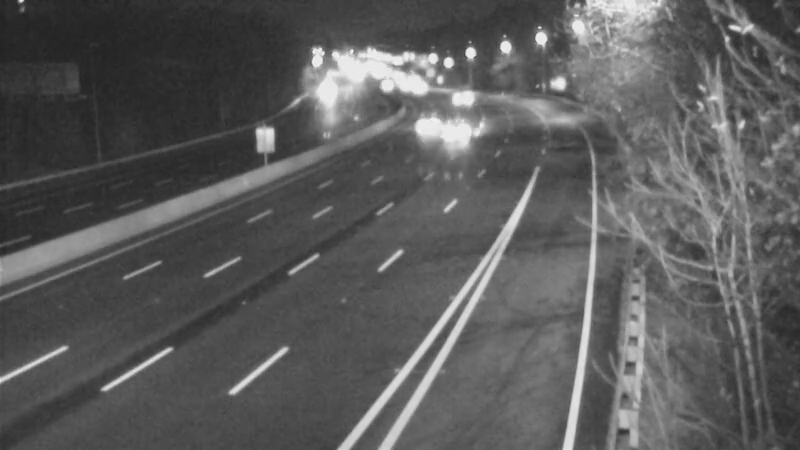vehicle: (431, 70, 481, 120), (391, 103, 441, 153), (416, 115, 466, 165), (300, 65, 350, 115)
